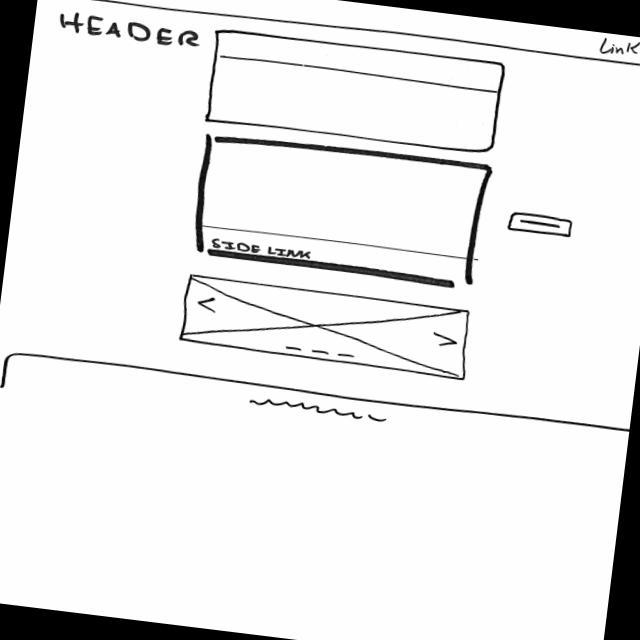container: (188, 131, 495, 293), (200, 24, 512, 161), (43, 1, 640, 72)
icon-button: (504, 210, 577, 241)
image: (176, 272, 476, 383)
label: (57, 8, 205, 51), (211, 236, 318, 262), (596, 36, 640, 62)
text: (248, 395, 393, 426)
